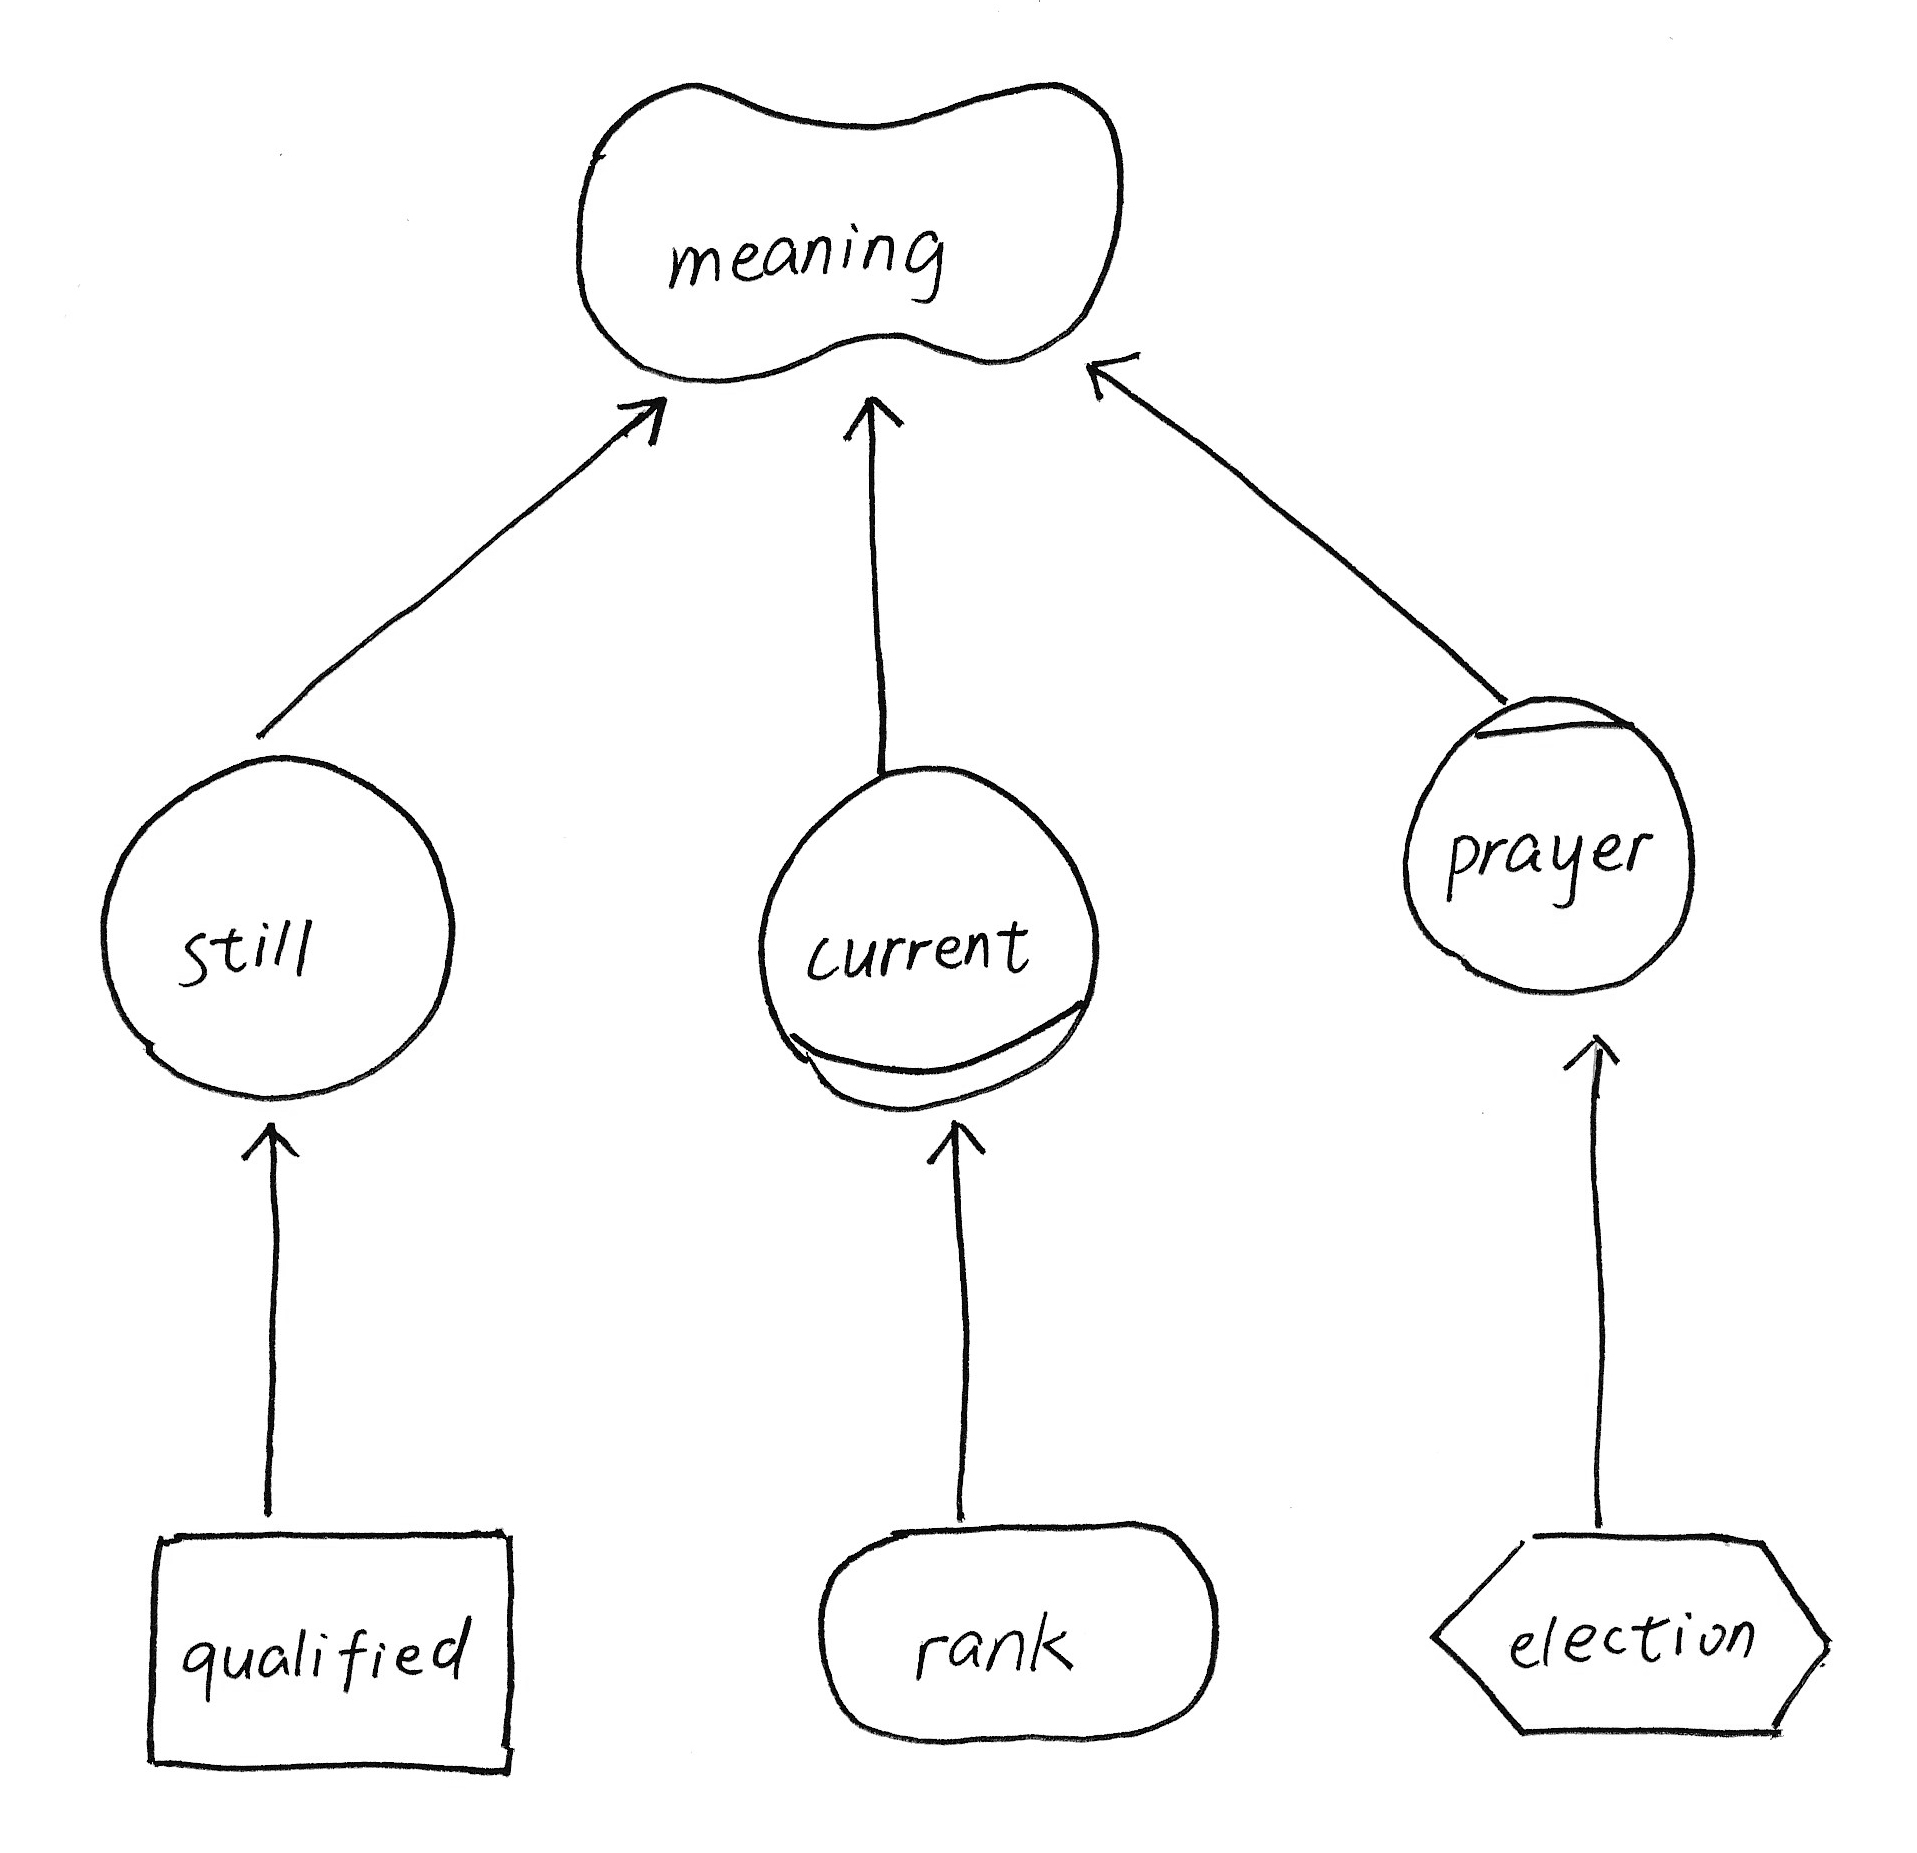actor: (84, 736, 483, 1117)
agent: (1381, 672, 1725, 1011)
arrow: (1061, 332, 1169, 428), (828, 380, 923, 460), (914, 1100, 994, 1191), (601, 382, 685, 464), (1551, 1021, 1643, 1092), (231, 1109, 318, 1182)
goal: (798, 1502, 1243, 1767)
quality: (544, 55, 1148, 404)
resource: (115, 1499, 541, 1802)
role: (738, 746, 1119, 1134)
task: (1415, 1502, 1855, 1764)
